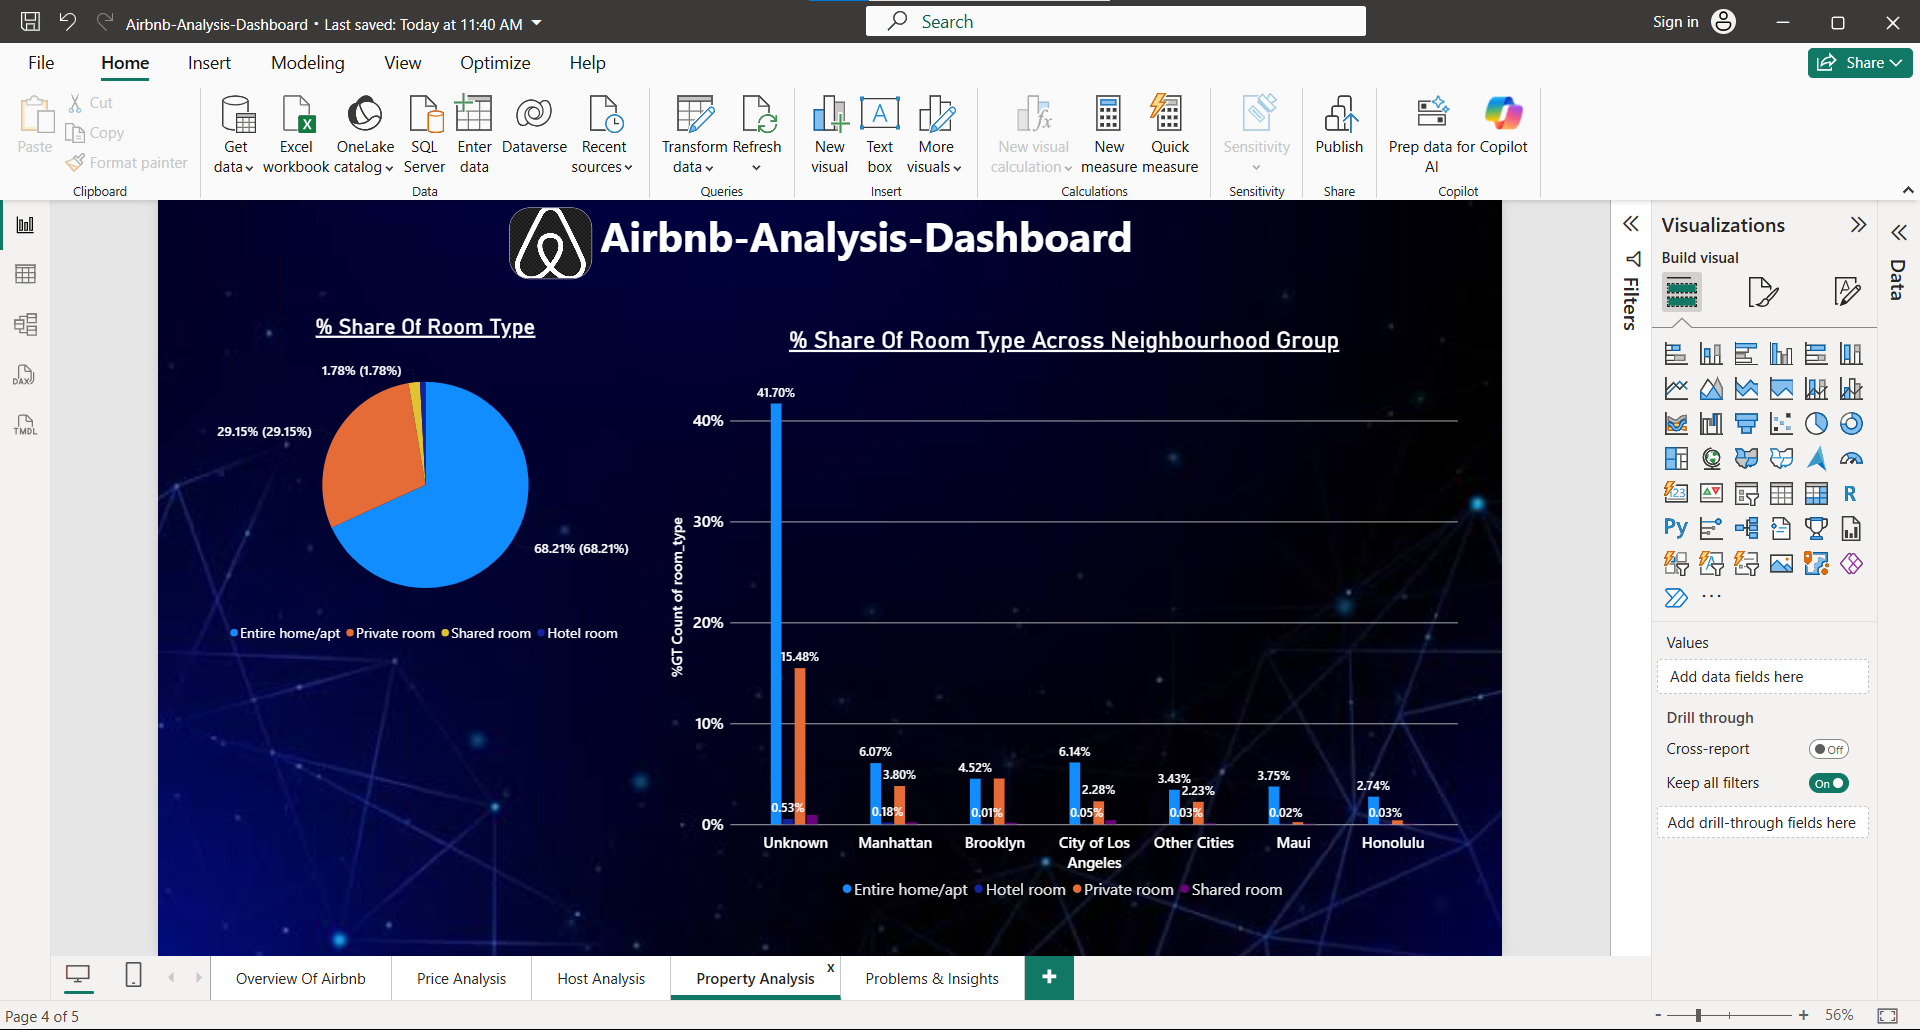

This screenshot's page, from the dashboard's own definition file:
{"tool":"powerbi","page":{"name":"Property Analysis","canvas":[1920,1080],"ordinal":3},"visuals":[{"type":"shape","box":[0,10.9,1920,124],"z":0},{"type":"image","box":[502,10,118,102],"z":1000},{"type":"textbox","box":[632.7,10.9,1241.8,101.8],"z":2000},{"type":"pieChart","title":"% Share Of Room Type","fields":{"Category":["AB_US_2020.room_type"],"Y":["CountNonNull(AB_US_2020.room_type)"]},"box":[17.9,148.2,728.6,503.6],"z":3000},{"type":"clusteredColumnChart","title":"% Share Of Room Type Across Neighbourhood Group","fields":{"Category":["AB_US_2020.neighbourhood_group"],"Series":["AB_US_2020.room_type"],"Y":["CountNonNull(AB_US_2020.room_type)"]},"box":[716.3,166.7,1156.8,852.1],"z":4000}]}

Visuals, with their boxes on the page's 1920x1080 design canvas (x1, y1, x2, y2). These are canvas units, not pixel positions in the 1920x1030 screenshot, which may show the page scaled, cropped or inside an application window:
shape: (0, 11, 1920, 135)
image: (502, 10, 620, 112)
textbox: (633, 11, 1874, 113)
"% Share Of Room Type" pieChart: (18, 148, 746, 652)
"% Share Of Room Type Across Neighbourhood Group" clusteredColumnChart: (716, 167, 1873, 1019)
